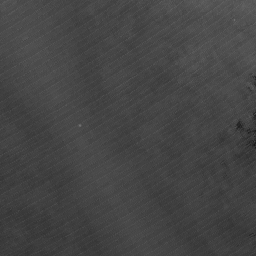Target: (76, 122, 83, 129)
